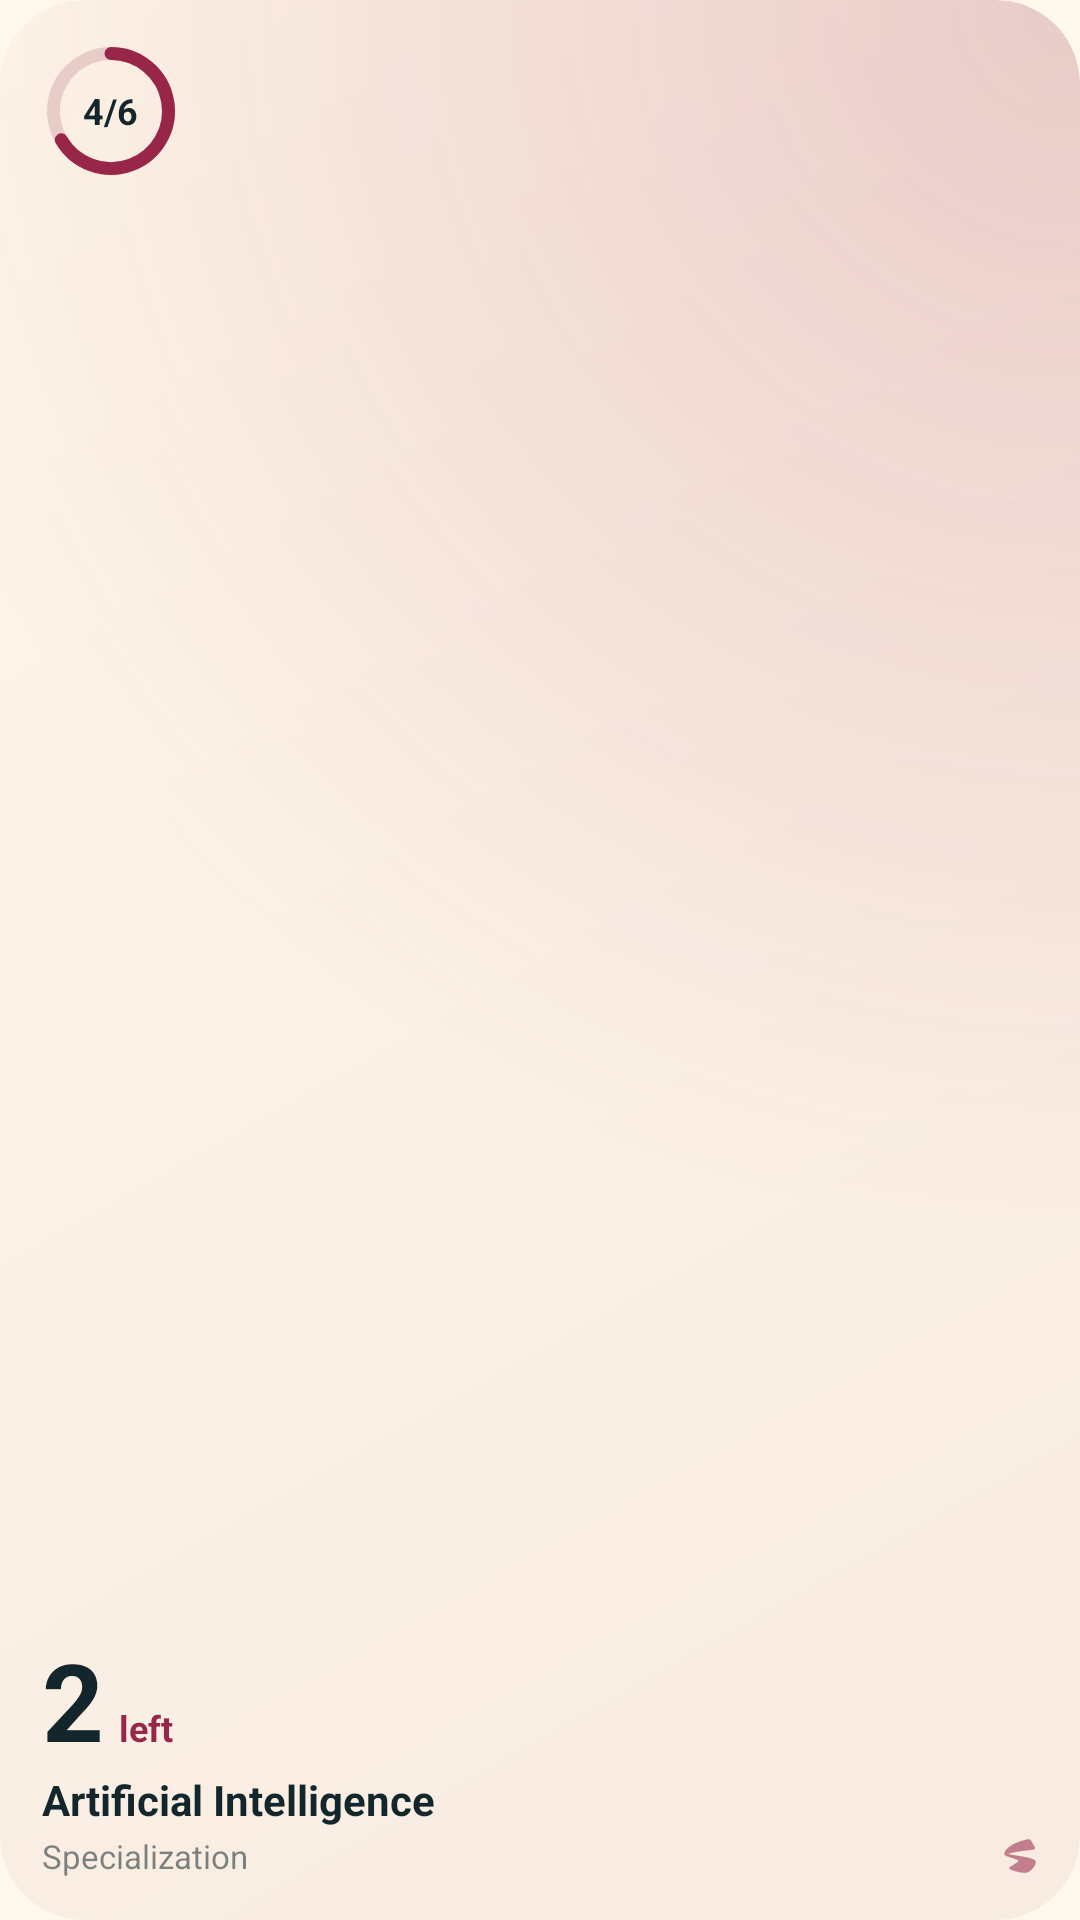

Point at icon controls on the screen. Image size 1080 x 1920, points as (x,y).
widget mark: (1020,1856)
widget ring: (111,111)
